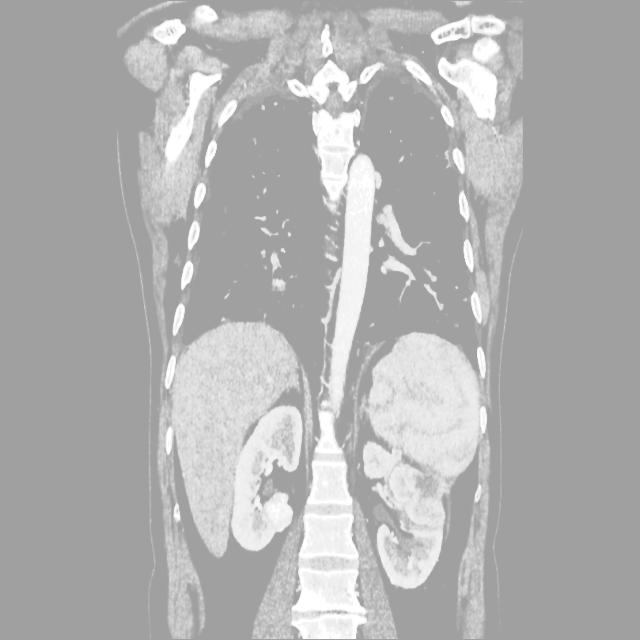TUMOR: (122, 258, 604, 568)
